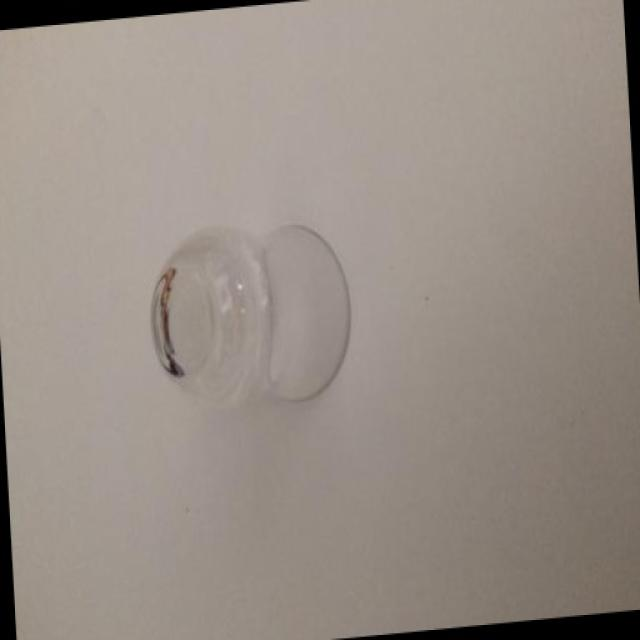vidrio: (134, 194, 395, 458)
